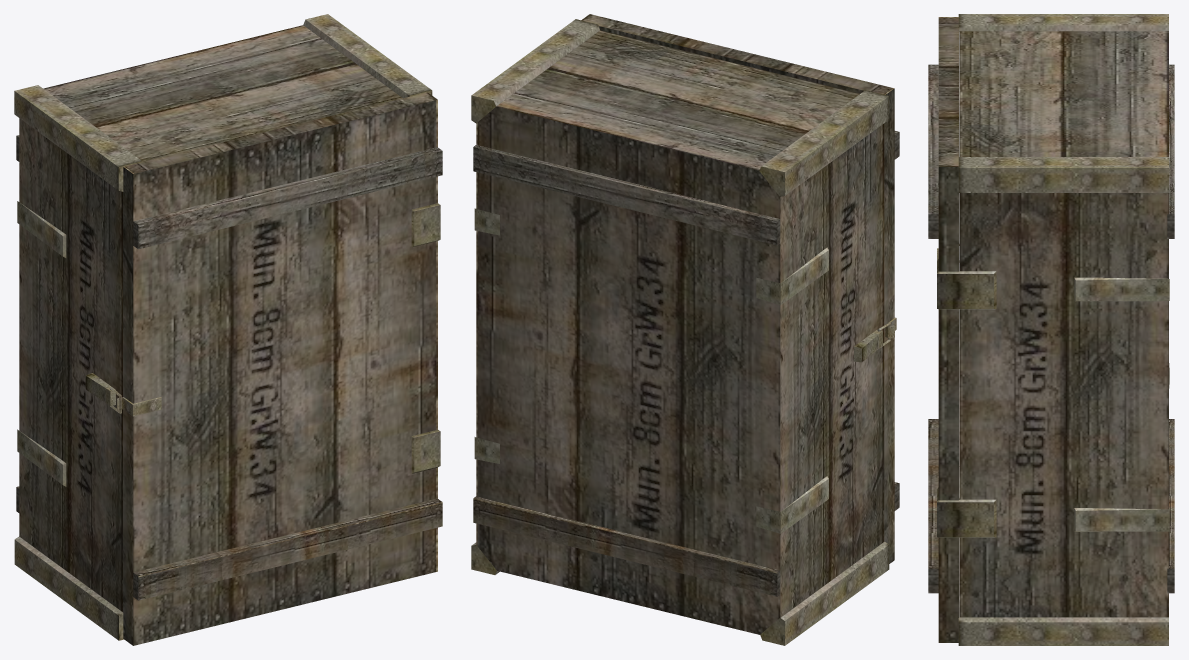
The model's file is prop_mortar_crate.glb.
The picture shows the model from 3 angles, left to right: view 1: azimuth 30°, elevation 25°; view 2: azimuth 150°, elevation 25°; view 3: azimuth 270°, elevation 25°; orthographic projection.
Size of the model in its own units: 21.9 by 31.3 by 14.61.
1 material, 1 textured.
